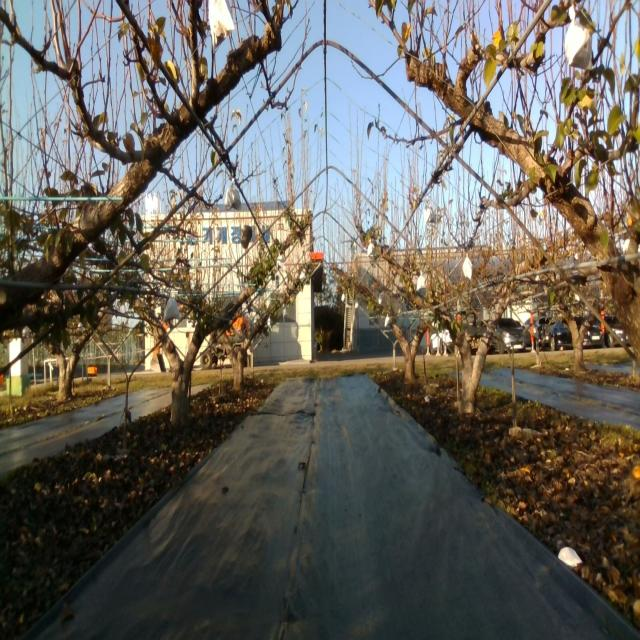pearbags: (563, 6, 593, 69), (209, 0, 238, 50), (224, 176, 242, 209), (163, 294, 180, 322), (462, 252, 472, 282), (424, 200, 436, 223)
